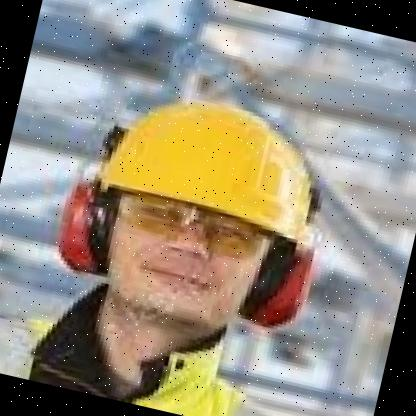capacete: (92, 82, 339, 234)
oculos: (106, 186, 279, 268)
